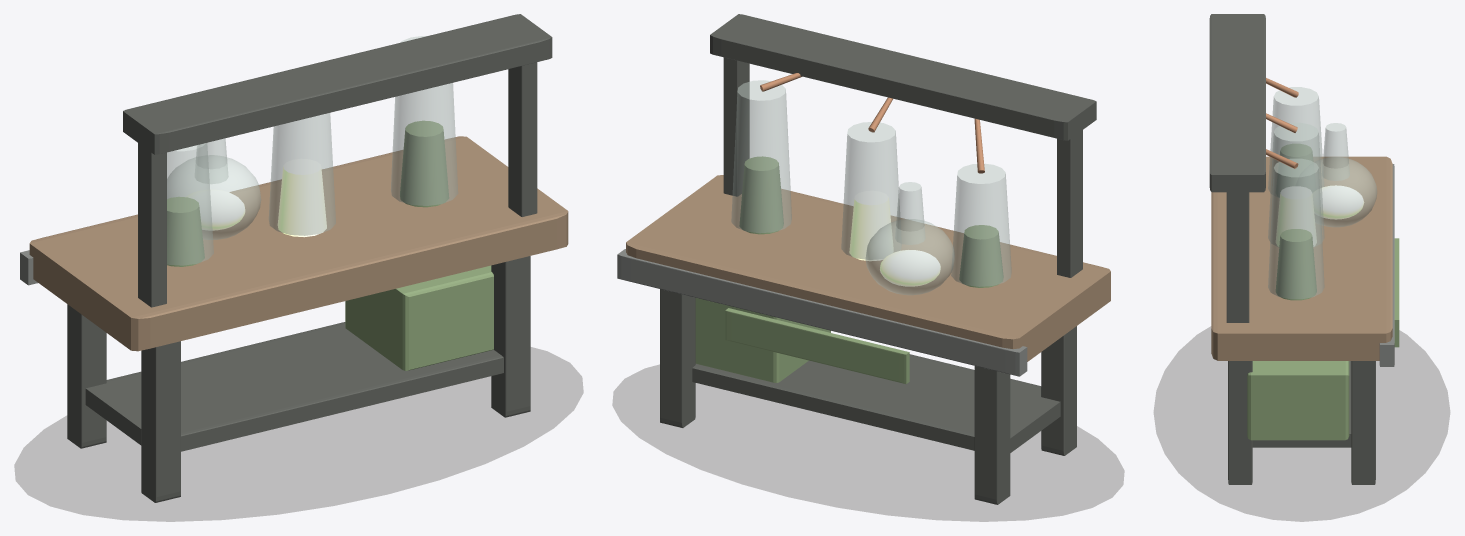
File: craft_station_chem.glb
3 renders of one model, left to right at view 1: azimuth 30°, elevation 25°; view 2: azimuth 150°, elevation 25°; view 3: azimuth 270°, elevation 25°, orthographic. The views are drawn at different scales.
Visible parts, largest first — view 1: chemical_lab_station_worktop, painted_contact_shadow, chemical_lab_station_lower_shelf, chem_upper_rack, sealed_chemical_case, reagent_tube_2, reagent_tube_1, chemical_lab_station_leg_-1_1, chemical_lab_station_leg_1_1, mixing_flask, reagent_tube_0, chemical_lab_station_leg_-1_-1 (+7 smaller); view 2: painted_contact_shadow, chemical_lab_station_worktop, chem_upper_rack, chemical_lab_station_lower_shelf, chemical_lab_station_front_edge, reagent_tube_2, reagent_tube_1, reagent_tube_0, chemical_lab_station_type_plate, mixing_flask, chemical_lab_station_leg_-1_-1, chemical_lab_station_leg_1_-1 (+9 smaller); view 3: painted_contact_shadow, chemical_lab_station_worktop, chem_upper_rack, sealed_chemical_case, reagent_tube_2, reagent_tube_1, mixing_flask, reagent_tube_0, chem_rack_right, chemical_lab_station_leg_1_-1, chemical_lab_station_leg_1_1, reagent_liquid_2 (+7 smaller).
Boxes of the visible parts, x1,y1,x2,y2 form: chemical_lab_station_worktop: [29, 136, 568, 351]; painted_contact_shadow: [14, 347, 583, 521]; chemical_lab_station_lower_shelf: [85, 322, 503, 451]; chem_upper_rack: [123, 14, 552, 154]; sealed_chemical_case: [345, 265, 493, 370]; reagent_tube_2: [391, 36, 458, 205]; reagent_tube_1: [268, 113, 335, 235]; chemical_lab_station_leg_-1_1: [141, 341, 180, 502]; chemical_lab_station_leg_1_1: [491, 256, 530, 417]; mixing_flask: [167, 155, 261, 239]; reagent_tube_0: [167, 143, 213, 265]; chemical_lab_station_leg_-1_-1: [67, 304, 106, 448]; painted_contact_shadow: [612, 364, 1124, 521]; chemical_lab_station_worktop: [626, 175, 1110, 361]; chem_upper_rack: [710, 14, 1096, 140]; chemical_lab_station_lower_shelf: [692, 354, 1060, 452]; chemical_lab_station_front_edge: [617, 249, 1027, 376]; reagent_tube_2: [731, 80, 791, 233]; reagent_tube_1: [841, 122, 901, 259]; reagent_tube_0: [951, 163, 1011, 286]; chemical_lab_station_type_plate: [725, 308, 909, 383]; mixing_flask: [865, 219, 954, 295]; chemical_lab_station_leg_-1_-1: [974, 366, 1010, 504]; chemical_lab_station_leg_1_-1: [660, 289, 695, 427]; painted_contact_shadow: [1154, 326, 1449, 521]; chemical_lab_station_worktop: [1211, 156, 1392, 360]; chem_upper_rack: [1209, 14, 1265, 192]; sealed_chemical_case: [1247, 361, 1349, 440]; reagent_tube_2: [1268, 158, 1324, 299]; reagent_tube_1: [1268, 122, 1324, 246]; mixing_flask: [1314, 157, 1377, 227]; reagent_tube_0: [1268, 87, 1323, 193]; chem_rack_right: [1226, 192, 1249, 322]; chemical_lab_station_leg_1_-1: [1351, 361, 1375, 484]; chemical_lab_station_leg_1_1: [1228, 361, 1252, 484]; reagent_liquid_2: [1275, 229, 1316, 300].
Size of the model in its own units: 2.75 by 1.86 by 1.57.
